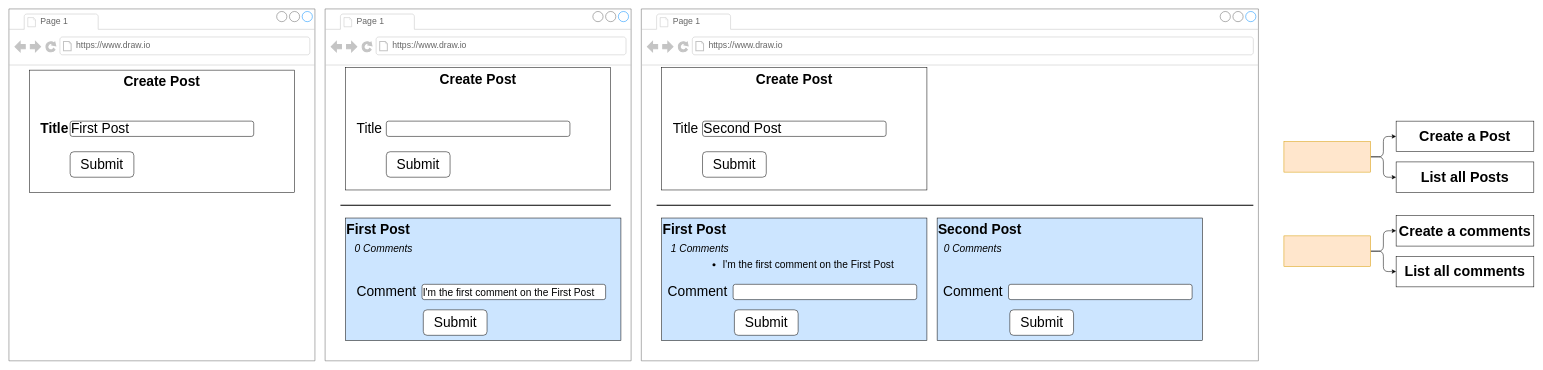
Some shapes in this 1543 by 370 pixel diagram are drawn without their labels. Here are the shapes that lost their labels. From the top down, the box of each, then its label:
(1283, 141, 1371, 172): Posts
(1283, 235, 1371, 266): Comments
(1008, 284, 1192, 300): I'm the first comment on the Second Post
